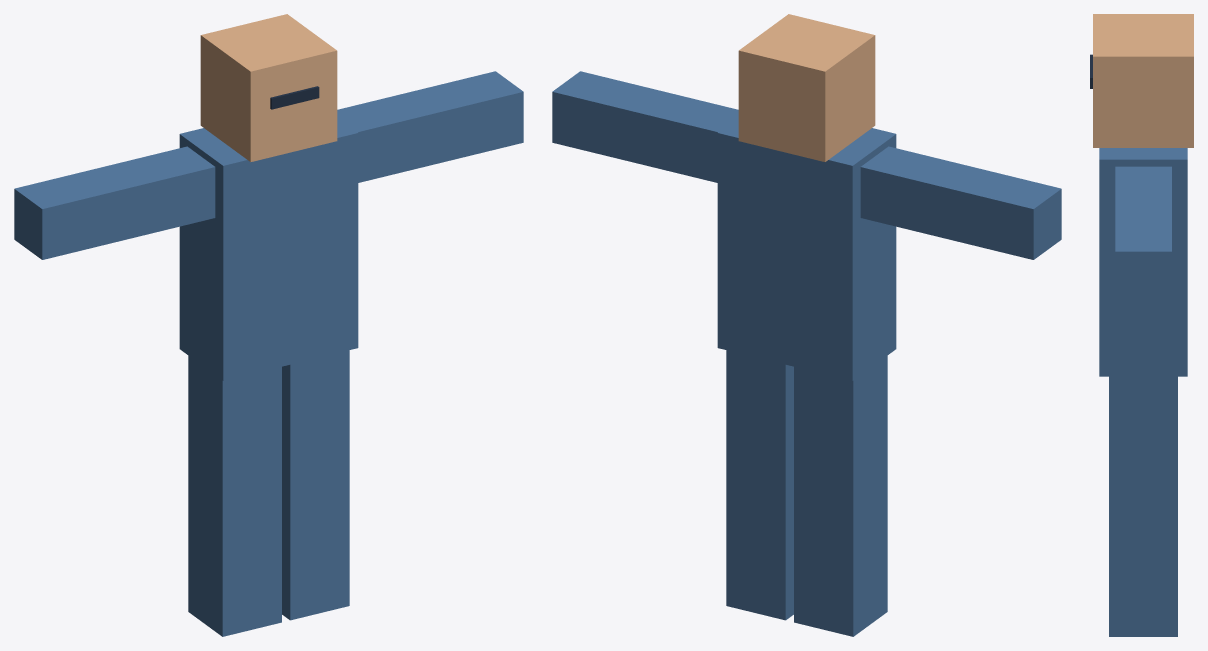
File: simple_humanoid.glb
3 views of the same model, side by side, from view 1: azimuth 30°, elevation 25°; view 2: azimuth 150°, elevation 25°; view 3: azimuth 270°, elevation 25° (orthographic).
Parts seen in each view (by area): view 1: Visual_Body, Visual_Leg_R, Visual_Leg_L, Visual_Head, Visual_Arm_R, Visual_Arm_L; view 2: Visual_Body, Visual_Leg_R, Visual_Leg_L, Visual_Head, Visual_Arm_R, Visual_Arm_L; view 3: Visual_Leg_L, Visual_Head, Visual_Body, Visual_Arm_L.
Boxes of the visible parts, x1,y1,x2,y2 form: Visual_Body: [179, 117, 358, 380]; Visual_Leg_R: [188, 356, 281, 636]; Visual_Leg_L: [282, 350, 349, 620]; Visual_Head: [200, 14, 337, 161]; Visual_Arm_R: [14, 146, 215, 259]; Visual_Arm_L: [337, 71, 523, 182]; Visual_Body: [717, 117, 896, 380]; Visual_Leg_R: [794, 356, 887, 636]; Visual_Leg_L: [726, 350, 793, 620]; Visual_Head: [738, 14, 875, 161]; Visual_Arm_R: [860, 146, 1061, 259]; Visual_Arm_L: [552, 71, 738, 182]; Visual_Leg_L: [1109, 376, 1177, 636]; Visual_Head: [1093, 14, 1193, 147]; Visual_Body: [1099, 148, 1187, 376]; Visual_Arm_L: [1115, 166, 1171, 302].
Bounding box in the file's own units: 1.6 × 1.8 × 0.2966.
